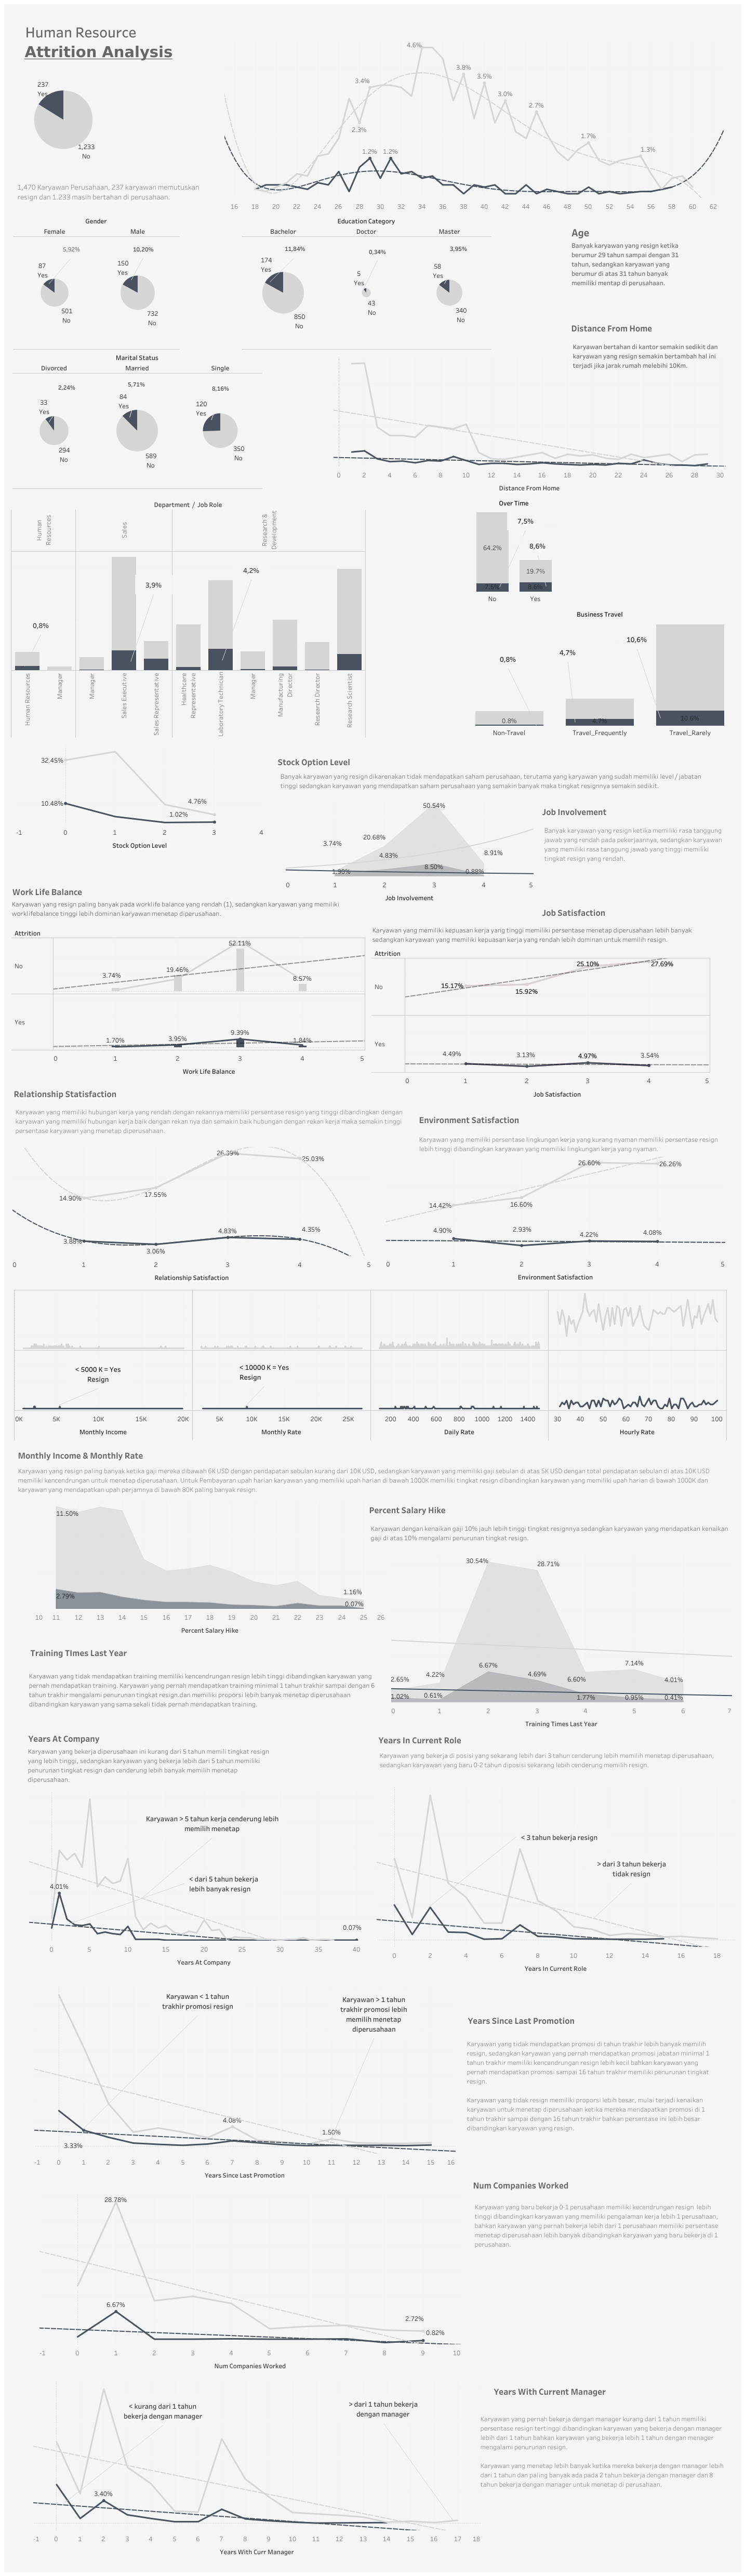

The dashboard page shown, as its layout file describes it:
{"tool":"tableau","page":{"name":"Dashboard 1","canvas":[1000,1000],"units":"permille","ordinal":0},"visuals":[{"type":"text","box":[32.3,8.1,246,8.3]},{"type":"text","box":[31.4,8.7,282.8,23]},{"type":"worksheet","title":"Age Range","mark":"Automatic","rows":["Age"],"cols":["Age"],"box":[300.3,15.1,670.8,73.2]},{"type":"worksheet","title":"Attrition","mark":"Pie","box":[29,30.4,199.3,36.1]},{"type":"text","box":[21.9,64.1,266,20.6]},{"type":"worksheet","title":"Gender Atttrition","mark":"Pie","cols":["Gender"],"box":[17.6,83.7,307.3,53.6]},{"type":"worksheet","title":"Education Attrition","mark":"Pie","cols":["Education_Category"],"box":[324,83.7,426.7,53.8]},{"type":"worksheet","title":"Age Text Header","mark":"Automatic","box":[763.8,86.3,109.8,10.9]},{"type":"worksheet","title":"Age Text Values","mark":"Automatic","box":[763.8,92.1,167.7,25.2]},{"type":"text","box":[764.7,124,180.9,6.5]},{"type":"text","box":[766.5,128.8,209,18.4]},{"type":"worksheet","title":"Marital Status Attrition","mark":"Pie","cols":["MaritalStatus"],"box":[16.7,136.7,431.1,55]},{"type":"worksheet","title":"Distance From Home Attrition","mark":"Automatic","cols":["Distance From Home (copy)_507780878081445888"],"box":[446.9,138.5,526.8,54]},{"type":"worksheet","title":"OverTime","mark":"Automatic","rows":["Attrition"],"cols":["OverTime"],"box":[631.3,193.2,193.2,40.9]},{"type":"worksheet","title":"Department Jobrole","mark":"Automatic","rows":["Attrition"],"cols":["Department","JobRole"],"box":[14.9,193.8,665.5,92.5]},{"type":"worksheet","title":"BusinessTravel","mark":"Automatic","rows":["Attrition"],"cols":["BusinessTravel"],"box":[622.5,236.3,364.4,49.8]},{"type":"worksheet","title":"StockOptionLevel","mark":"Automatic","rows":["Attrition"],"cols":["StockOptionLevel"],"box":[21.1,289.9,332.8,41.3]},{"type":"text","box":[370.5,290.3,134.3,10.5]},{"type":"text","box":[374,298,591.8,9.9]},{"type":"text","box":[725.3,309.7,123.9,10.5]},{"type":"worksheet","title":"JobInvolment","mark":"Area","rows":["Attrition"],"cols":["JobInvolvement"],"box":[382.4,310.3,333,41.3]},{"type":"text","box":[728,317.5,252.2,20.2]},{"type":"text","box":[14.6,340.7,133.9,10.5]},{"type":"text","box":[13.9,347.2,480.4,10.7]},{"type":"text","box":[725.2,348.6,117.8,10.9]},{"type":"text","box":[497.3,357.3,458.8,10.7]},{"type":"worksheet","title":"WorkLifeBalance","mark":"Automatic","rows":["Attrition","Attrition","WorkLifeBalance"],"cols":["WorkLifeBalance"],"box":[15.3,359.9,474.9,59.3]},{"type":"worksheet","title":"JobSatisfaction","mark":"Automatic","rows":["Attrition","JobSatisfaction","Attrition"],"cols":["JobSatisfaction"],"box":[498.1,367.7,454.2,58.9]},{"type":"text","box":[17.1,419.2,221.7,10.5]},{"type":"text","box":[18.9,427.6,531.4,14.9]},{"type":"text","box":[560.1,429.2,185.8,10.5]},{"type":"text","box":[560.1,437.7,422.8,12.3]},{"type":"worksheet","title":"Relationship Satisfaction","mark":"Automatic","cols":["RelationshipSatisfaction"],"box":[16.2,445.2,482.1,53.8]},{"type":"worksheet","title":"Environment Satisfaction","mark":"Automatic","rows":["Attrition"],"cols":["EnvironmentSatisfaction"],"box":[517.1,449,456,49.8]},{"type":"worksheet","title":"Monthly daily hour income rate","mark":"Automatic","rows":["Attrition","Attrition"],"cols":["MonthlyIncome","MonthlyRate","DailyRate","HourlyRate"],"box":[18.9,500.6,956,58.5]},{"type":"text","box":[22.4,559.5,228.9,10.5]},{"type":"text","box":[22.4,567.5,947,13.5]},{"type":"text","box":[493.7,580.6,144.5,10.5]},{"type":"worksheet","title":"Percent Hike","mark":"Area","rows":["Attrition"],"cols":["PercentSalaryHike"],"box":[45.8,582.7,471.3,53.2]},{"type":"text","box":[495.5,588.9,487.4,11.9]},{"type":"worksheet","title":"Training Times Last Year","mark":"Area","rows":["Attrition"],"cols":["TrainingTimesLastYear"],"box":[523.8,603.4,458.2,68.8]},{"type":"text","box":[39,636.1,189.2,10.5]},{"type":"text","box":[37.1,644.6,473.4,22.6]},{"type":"text","box":[36.2,669.4,143.2,10.5]},{"type":"text","box":[505.7,670,164.5,10.5]},{"type":"text","box":[35.4,675.6,340.3,18.8]},{"type":"text","box":[507.6,677.6,476.2,10.7]},{"type":"worksheet","title":"Years Since With Currnt Role","mark":"Automatic","rows":["Attrition"],"cols":["YearsInCurrentRole"],"box":[504.8,693.6,481,73.6]},{"type":"worksheet","title":"Years At Company","mark":"Automatic","rows":["Attrition"],"cols":["YearsAtCompany"],"box":[38,695.2,470.5,69.6]},{"type":"worksheet","title":"Years Since Last Promotion","mark":"Automatic","rows":["Attrition"],"cols":["YearsSinceLastPromotion"],"box":[45.6,771,565.6,76.4]},{"type":"text","box":[625.5,778.8,208.2,10.5]},{"type":"text","box":[624.5,786.3,340.3,46.2]},{"type":"text","box":[633.1,842.7,188.2,10.5]},{"type":"text","box":[635,850.8,340.3,25.6]},{"type":"worksheet","title":"Num Companies Worked","mark":"Automatic","rows":["Attrition"],"cols":["NumCompaniesWorked"],"box":[52.3,851.4,566.5,70]},{"type":"text","box":[660.6,924,315.6,8.1]},{"type":"worksheet","title":"Years With Current Manager","mark":"Automatic","rows":["Attrition"],"cols":["YearsWithCurrManager"],"box":[43.7,924.2,601.7,69.4]},{"type":"text","box":[642.6,931.6,340.3,39.3]}]}

Visuals, with their boxes on the dashboard's canvas, which has no fixed pixel size, in thousandths of its width and height (x1, y1, x2, y2). These are canvas units, not pixel positions in the 745x2576 screenshot, which may show the page scaled, cropped or inside an application window:
text: (x1=32, y1=8, x2=278, y2=16)
text: (x1=31, y1=9, x2=314, y2=32)
"Age Range" worksheet: (x1=300, y1=15, x2=971, y2=88)
"Attrition" worksheet (Pie marks): (x1=29, y1=30, x2=228, y2=66)
text: (x1=22, y1=64, x2=288, y2=85)
"Gender Atttrition" worksheet (Pie marks): (x1=18, y1=84, x2=325, y2=137)
"Education Attrition" worksheet (Pie marks): (x1=324, y1=84, x2=751, y2=138)
"Age Text Header" worksheet: (x1=764, y1=86, x2=874, y2=97)
"Age Text Values" worksheet: (x1=764, y1=92, x2=932, y2=117)
text: (x1=765, y1=124, x2=946, y2=130)
text: (x1=766, y1=129, x2=976, y2=147)
"Marital Status Attrition" worksheet (Pie marks): (x1=17, y1=137, x2=448, y2=192)
"Distance From Home Attrition" worksheet: (x1=447, y1=138, x2=974, y2=192)
"OverTime" worksheet: (x1=631, y1=193, x2=824, y2=234)
"Department Jobrole" worksheet: (x1=15, y1=194, x2=680, y2=286)
"BusinessTravel" worksheet: (x1=622, y1=236, x2=987, y2=286)
"StockOptionLevel" worksheet: (x1=21, y1=290, x2=354, y2=331)
text: (x1=370, y1=290, x2=505, y2=301)
text: (x1=374, y1=298, x2=966, y2=308)
text: (x1=725, y1=310, x2=849, y2=320)
"JobInvolment" worksheet (Area marks): (x1=382, y1=310, x2=715, y2=352)
text: (x1=728, y1=318, x2=980, y2=338)
text: (x1=15, y1=341, x2=148, y2=351)
text: (x1=14, y1=347, x2=494, y2=358)
text: (x1=725, y1=349, x2=843, y2=360)
text: (x1=497, y1=357, x2=956, y2=368)
"WorkLifeBalance" worksheet: (x1=15, y1=360, x2=490, y2=419)
"JobSatisfaction" worksheet: (x1=498, y1=368, x2=952, y2=427)
text: (x1=17, y1=419, x2=239, y2=430)
text: (x1=19, y1=428, x2=550, y2=442)
text: (x1=560, y1=429, x2=746, y2=440)
text: (x1=560, y1=438, x2=983, y2=450)
"Relationship Satisfaction" worksheet: (x1=16, y1=445, x2=498, y2=499)
"Environment Satisfaction" worksheet: (x1=517, y1=449, x2=973, y2=499)
"Monthly daily hour income rate" worksheet: (x1=19, y1=501, x2=975, y2=559)
text: (x1=22, y1=560, x2=251, y2=570)
text: (x1=22, y1=568, x2=969, y2=581)
text: (x1=494, y1=581, x2=638, y2=591)
"Percent Hike" worksheet (Area marks): (x1=46, y1=583, x2=517, y2=636)
text: (x1=496, y1=589, x2=983, y2=601)
"Training Times Last Year" worksheet (Area marks): (x1=524, y1=603, x2=982, y2=672)
text: (x1=39, y1=636, x2=228, y2=647)
text: (x1=37, y1=645, x2=510, y2=667)
text: (x1=36, y1=669, x2=179, y2=680)
text: (x1=506, y1=670, x2=670, y2=680)
text: (x1=35, y1=676, x2=376, y2=694)
text: (x1=508, y1=678, x2=984, y2=688)
"Years Since With Currnt Role" worksheet: (x1=505, y1=694, x2=986, y2=767)
"Years At Company" worksheet: (x1=38, y1=695, x2=508, y2=765)
"Years Since Last Promotion" worksheet: (x1=46, y1=771, x2=611, y2=847)
text: (x1=626, y1=779, x2=834, y2=789)
text: (x1=624, y1=786, x2=965, y2=832)
text: (x1=633, y1=843, x2=821, y2=853)
text: (x1=635, y1=851, x2=975, y2=876)
"Num Companies Worked" worksheet: (x1=52, y1=851, x2=619, y2=921)
text: (x1=661, y1=924, x2=976, y2=932)
"Years With Current Manager" worksheet: (x1=44, y1=924, x2=645, y2=994)
text: (x1=643, y1=932, x2=983, y2=971)
